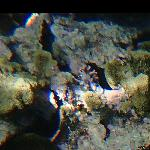dead: (6, 15, 147, 144)
